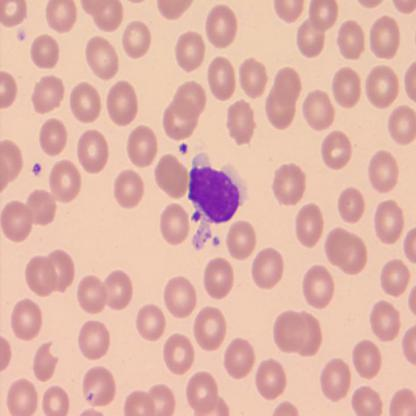Atypical lymphocyte: (185, 150, 250, 252)
